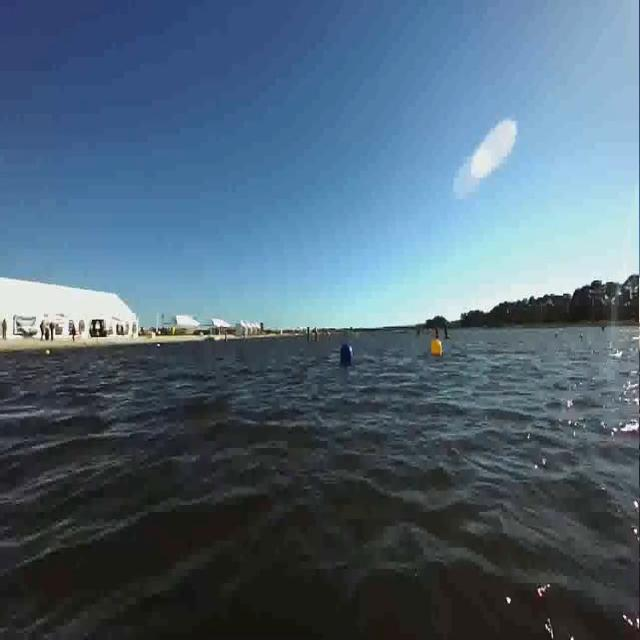blue-buoy: (340, 340, 355, 366)
yellow-buoy: (430, 338, 442, 358)
